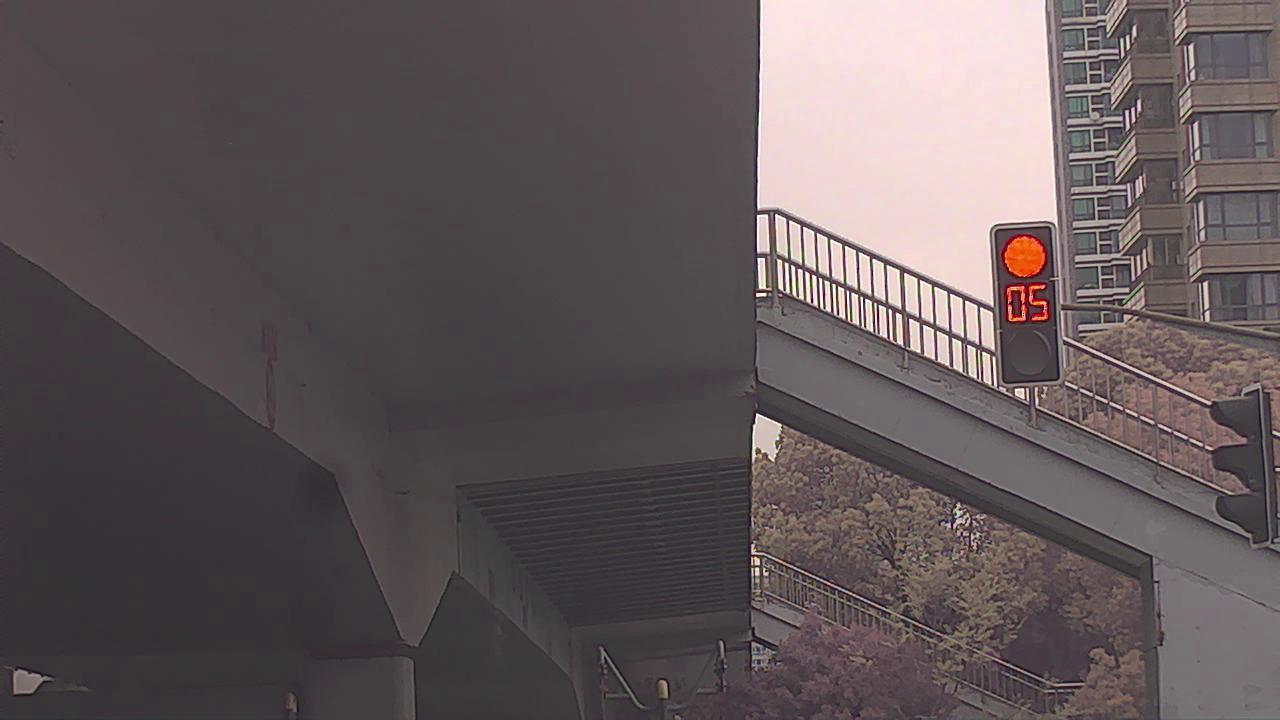traffic_light: (994, 222, 1063, 388)
